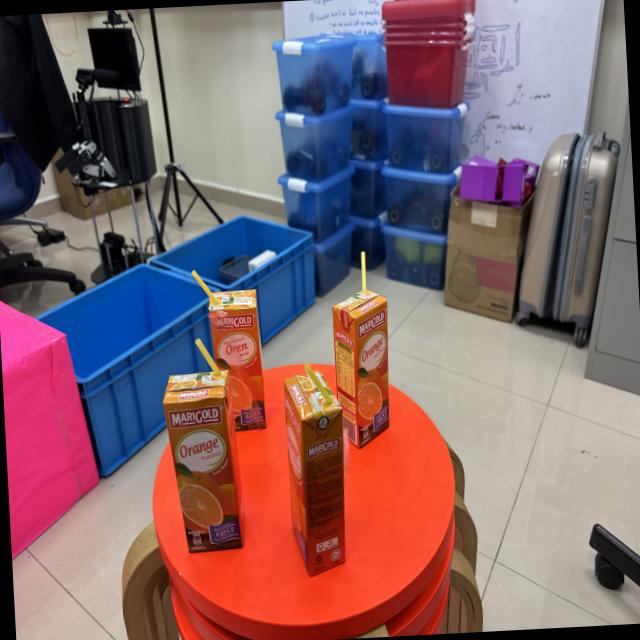drink_carton: (156, 327, 258, 559), (271, 355, 358, 585), (189, 255, 276, 440), (329, 250, 398, 452)
